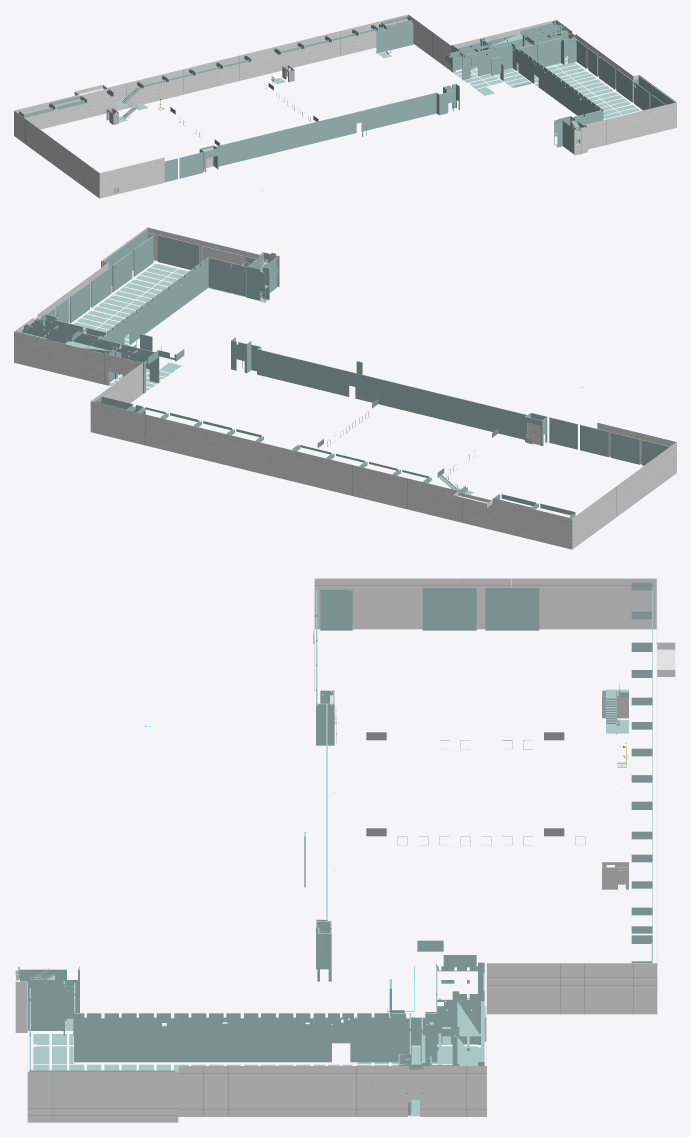
The model's file is storey-3-2f.glb.
3 renders of one model, top to bottom at view 1: azimuth 30°, elevation 25°; view 2: azimuth 150°, elevation 25°; view 3: azimuth 270°, elevation 25°, orthographic. The views are drawn at different scales.
Bounding box in the file's own units: 134 × 7.67 × 75.72.
